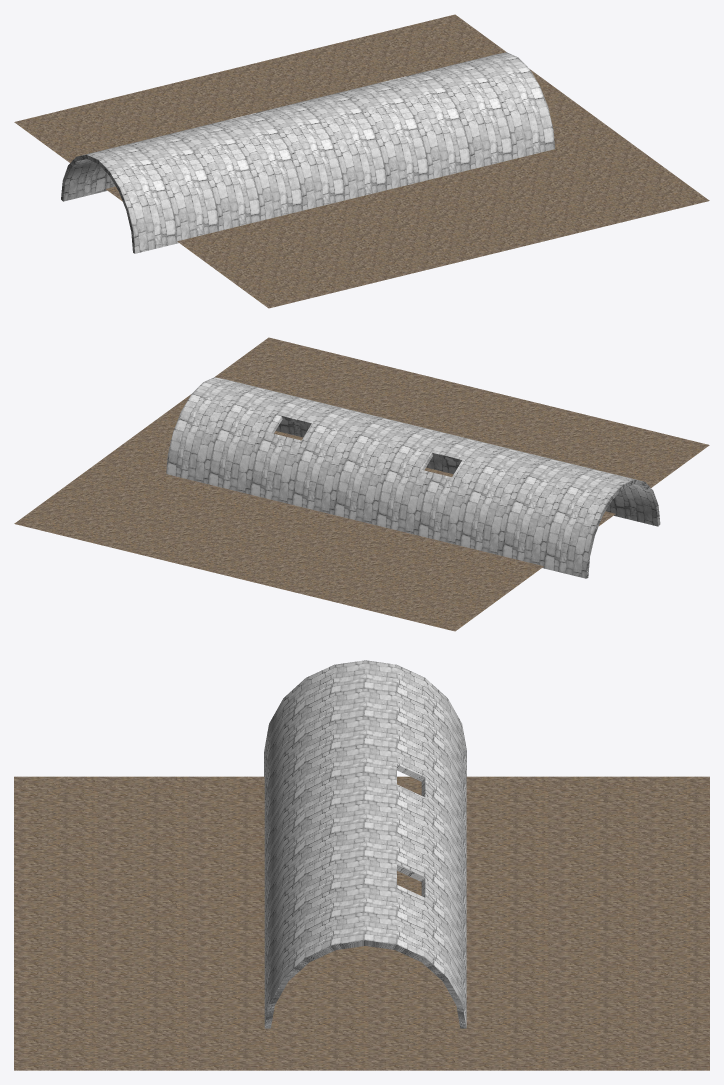
The model's file is WheelCartFbx.FBX.
The picture shows the model from 3 angles, top to bottom: view 1: azimuth 30°, elevation 25°; view 2: azimuth 150°, elevation 25°; view 3: azimuth 270°, elevation 25°; orthographic projection. The views are drawn at different scales.
Visible parts, largest first — view 1: Plane001, Cylinder001; view 2: Plane001, Cylinder001; view 3: Plane001, Cylinder001.
Part boxes in pixels (x1,y1,x2,y2): Plane001: [14, 14, 709, 308]; Cylinder001: [61, 52, 554, 253]; Plane001: [14, 337, 709, 631]; Cylinder001: [166, 377, 660, 578]; Plane001: [14, 776, 709, 1070]; Cylinder001: [264, 660, 466, 1028].
Size of the model in its own units: 1725 by 230 by 1575.
5 materials, 2 textured.
